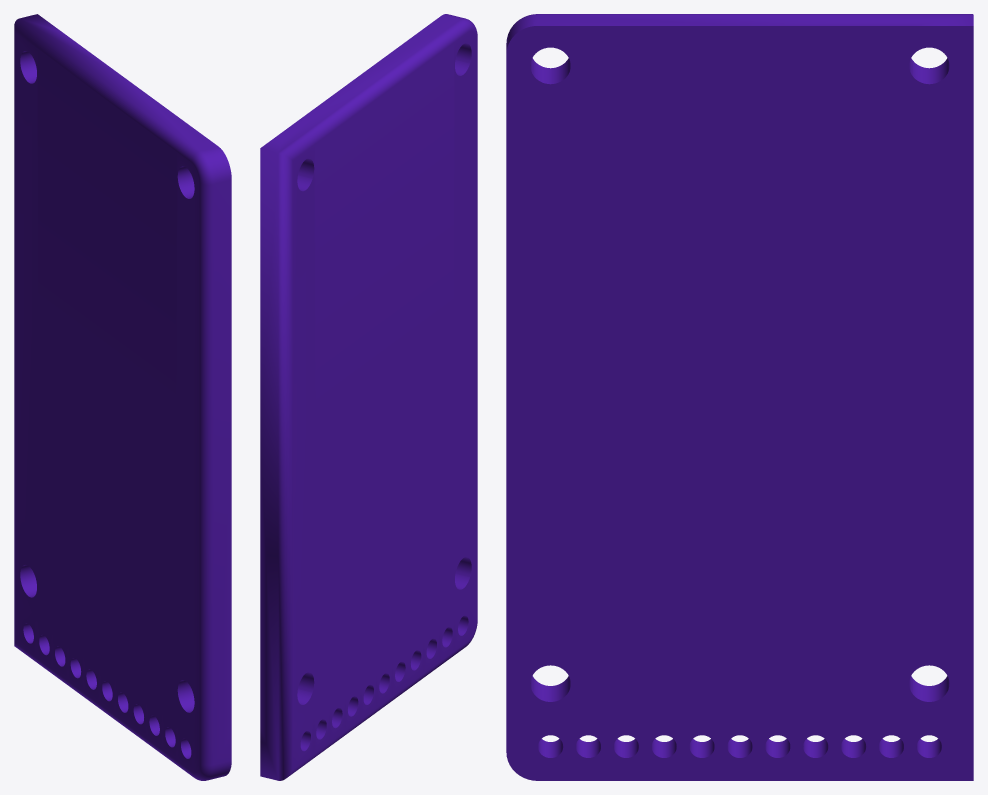
Rendered from uchwyt_prawy_serwo_cover.obj.
3 renders of one model, left to right at view 1: azimuth 30°, elevation 25°; view 2: azimuth 150°, elevation 25°; view 3: azimuth 270°, elevation 25°, orthographic. The views are drawn at different scales.
Visible parts, largest first — view 1: uchwyt_prawy_serwo_cover; view 2: uchwyt_prawy_serwo_cover; view 3: uchwyt_prawy_serwo_cover.
Boxes of the visible parts, <box> form: uchwyt_prawy_serwo_cover: <box>14,14,231,780</box>; uchwyt_prawy_serwo_cover: <box>260,14,477,780</box>; uchwyt_prawy_serwo_cover: <box>506,14,973,780</box>.
Size of the model in its own units: 3 by 66 by 37.
